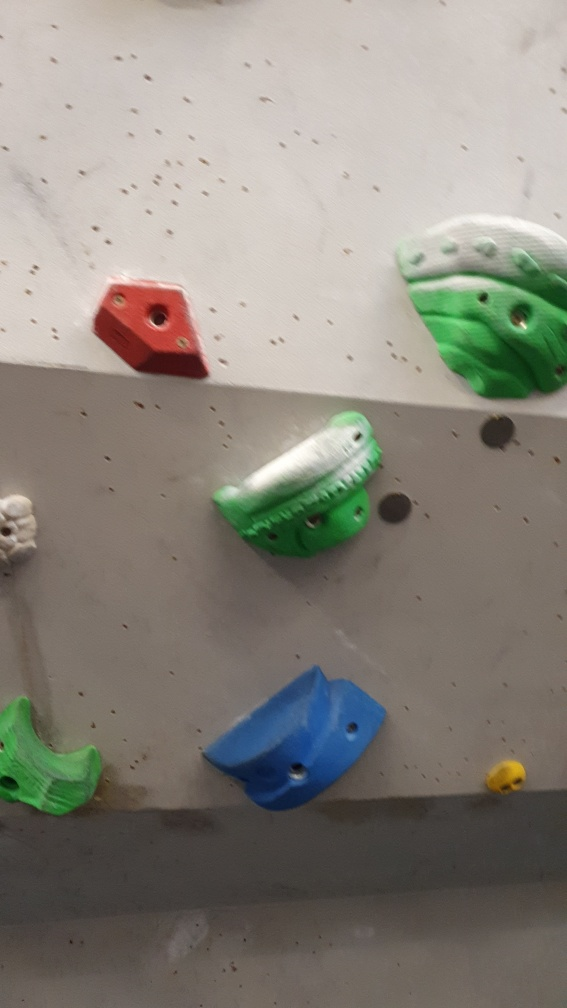Crimp: (89, 271, 217, 382)
Hand Start: (476, 406, 519, 457), (375, 484, 418, 529)
Jug: (391, 209, 567, 405), (208, 409, 388, 557), (1, 693, 111, 824)
Pinch: (200, 661, 391, 813)
